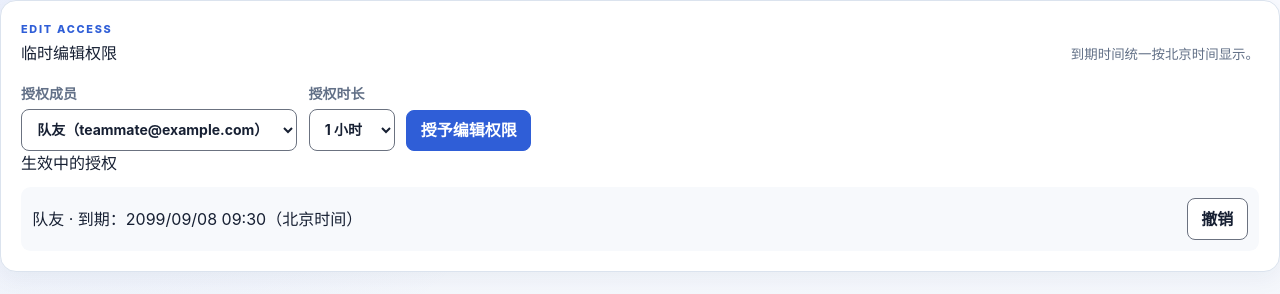
Scenario: formats active grants in Asia/Shanghai and revokes with duplicate-submit protection
Expected: the text "队友 · 到期：2099/09/08 09:30（北京时间）" is shown, 32,207 -> 362,231
Click the button with aria-label "撤销队友的编辑权限" at point(1217, 219), box 1187,198 -> 1248,240
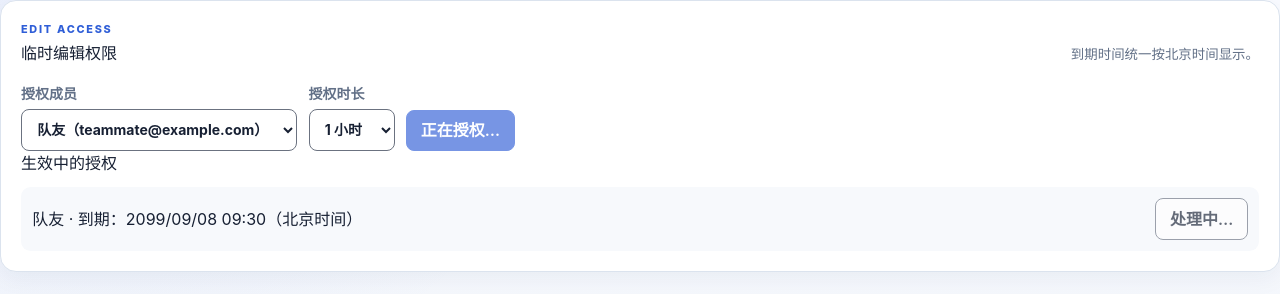
Expected: the button with aria-label "撤销队友的编辑权限" is disabled
Click the button with aria-label "撤销队友的编辑权限" at point(1202, 219), box 1155,198 -> 1248,240
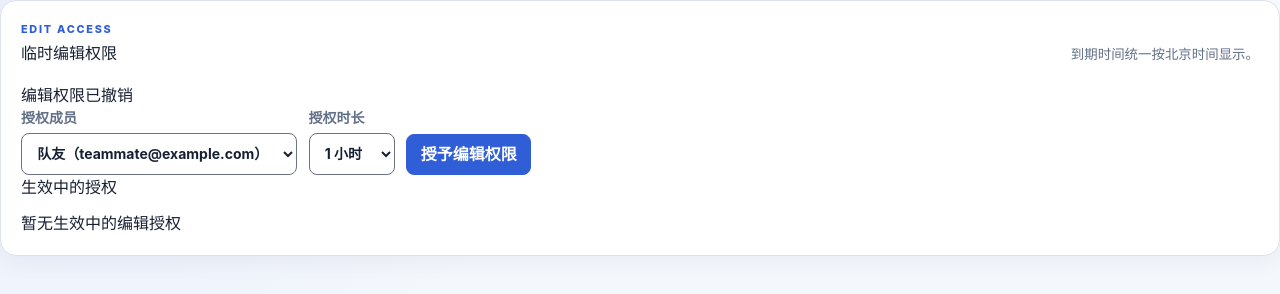
Expected: the number of messages is 1, 21,85 -> 133,105
Expected: the text "编辑权限已撤销" is shown once, 21,85 -> 133,105
